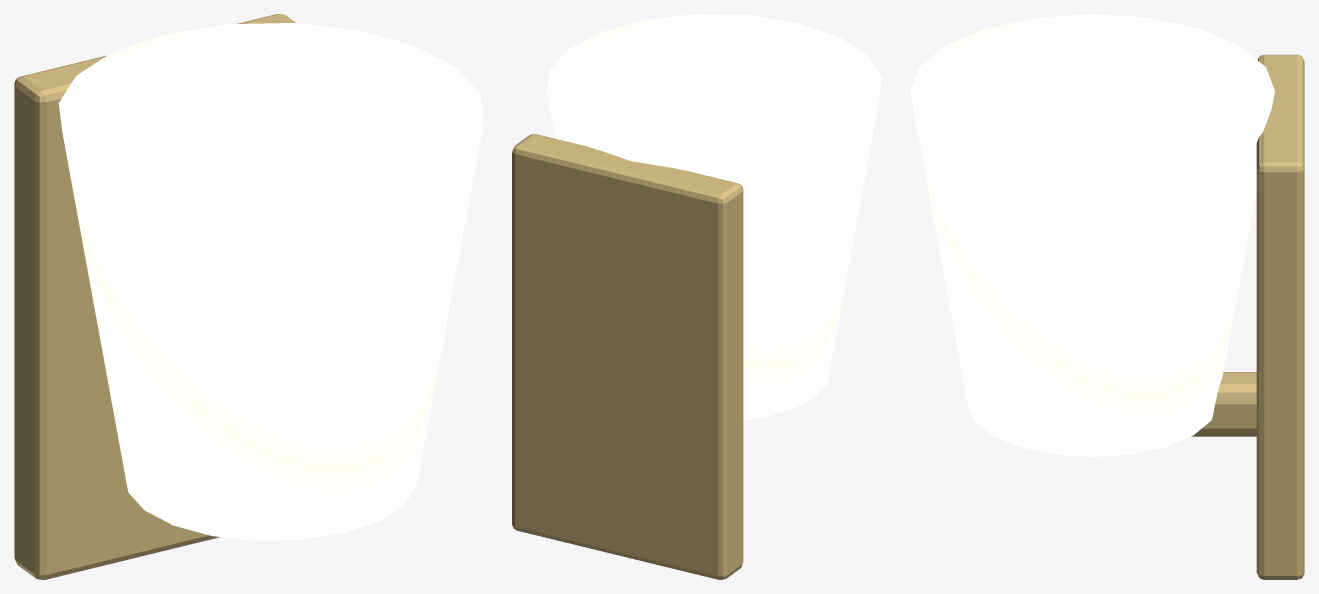
The model's file is sconce_wall.glb.
The picture shows the model from 3 angles, left to right: view 1: azimuth 30°, elevation 25°; view 2: azimuth 150°, elevation 25°; view 3: azimuth 270°, elevation 25°; orthographic projection. The views are drawn at different scales.
Parts seen in each view (by area): view 1: FrostedGlass, BackPlate; view 2: BackPlate, FrostedGlass; view 3: FrostedGlass, BackPlate, ArmBracket.
Part boxes in pixels (x1,y1,x2,y2): FrostedGlass: (58,23,483,540); BackPlate: (14,14,295,579); BackPlate: (512,134,743,579); FrostedGlass: (547,14,881,420); FrostedGlass: (910,14,1274,456); BackPlate: (1256,54,1304,579); ArmBracket: (1191,372,1256,436).
Size of the model in its own units: 0.19 by 0.25 by 0.2055.
